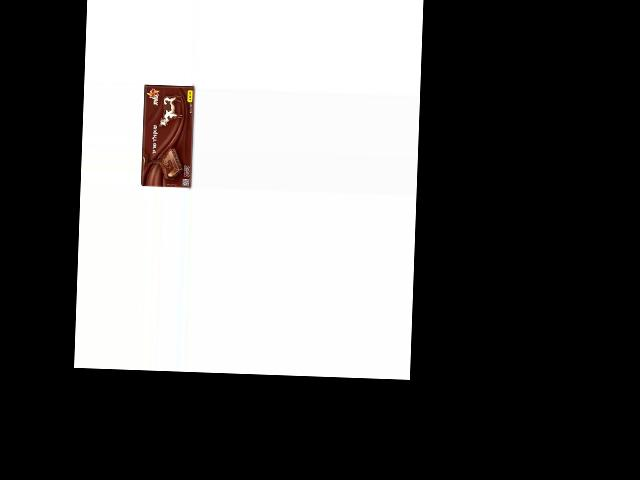chocolate: (140, 82, 195, 186)
